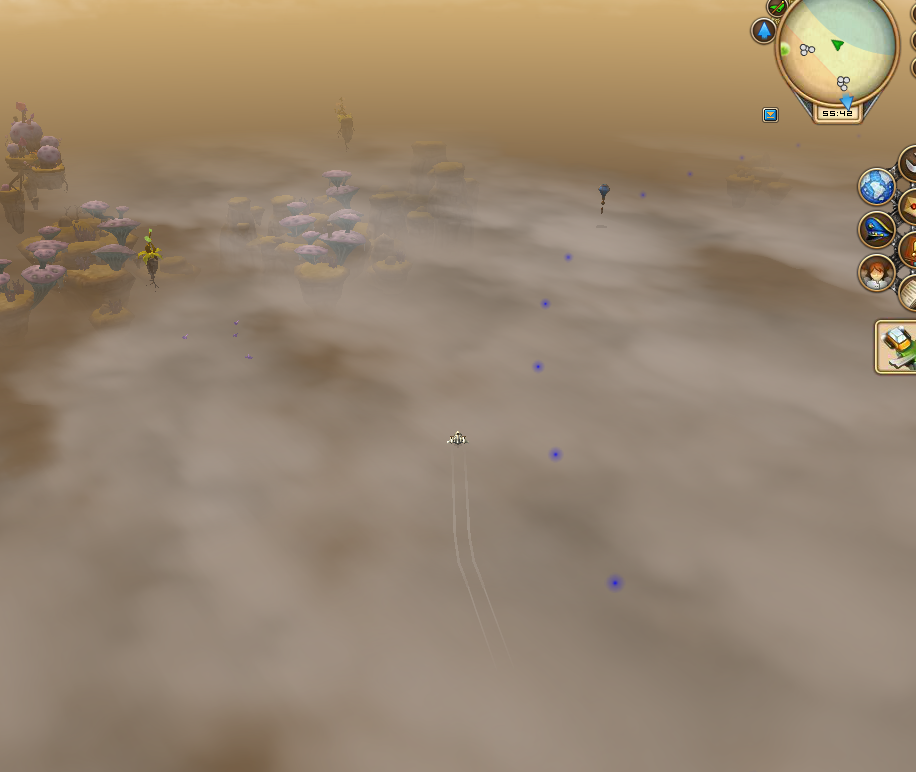dandelion-full: (133, 222, 169, 290), (329, 90, 360, 150)
